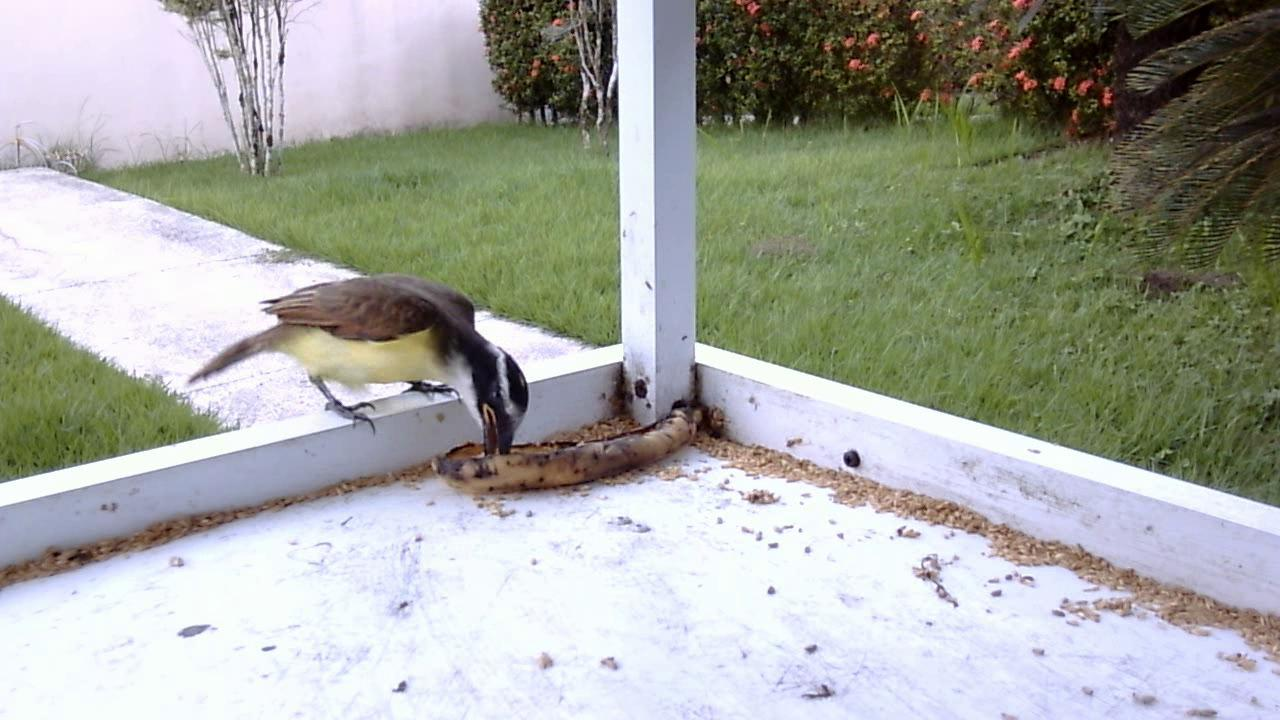bem_te_vi: (178, 261, 534, 470)
